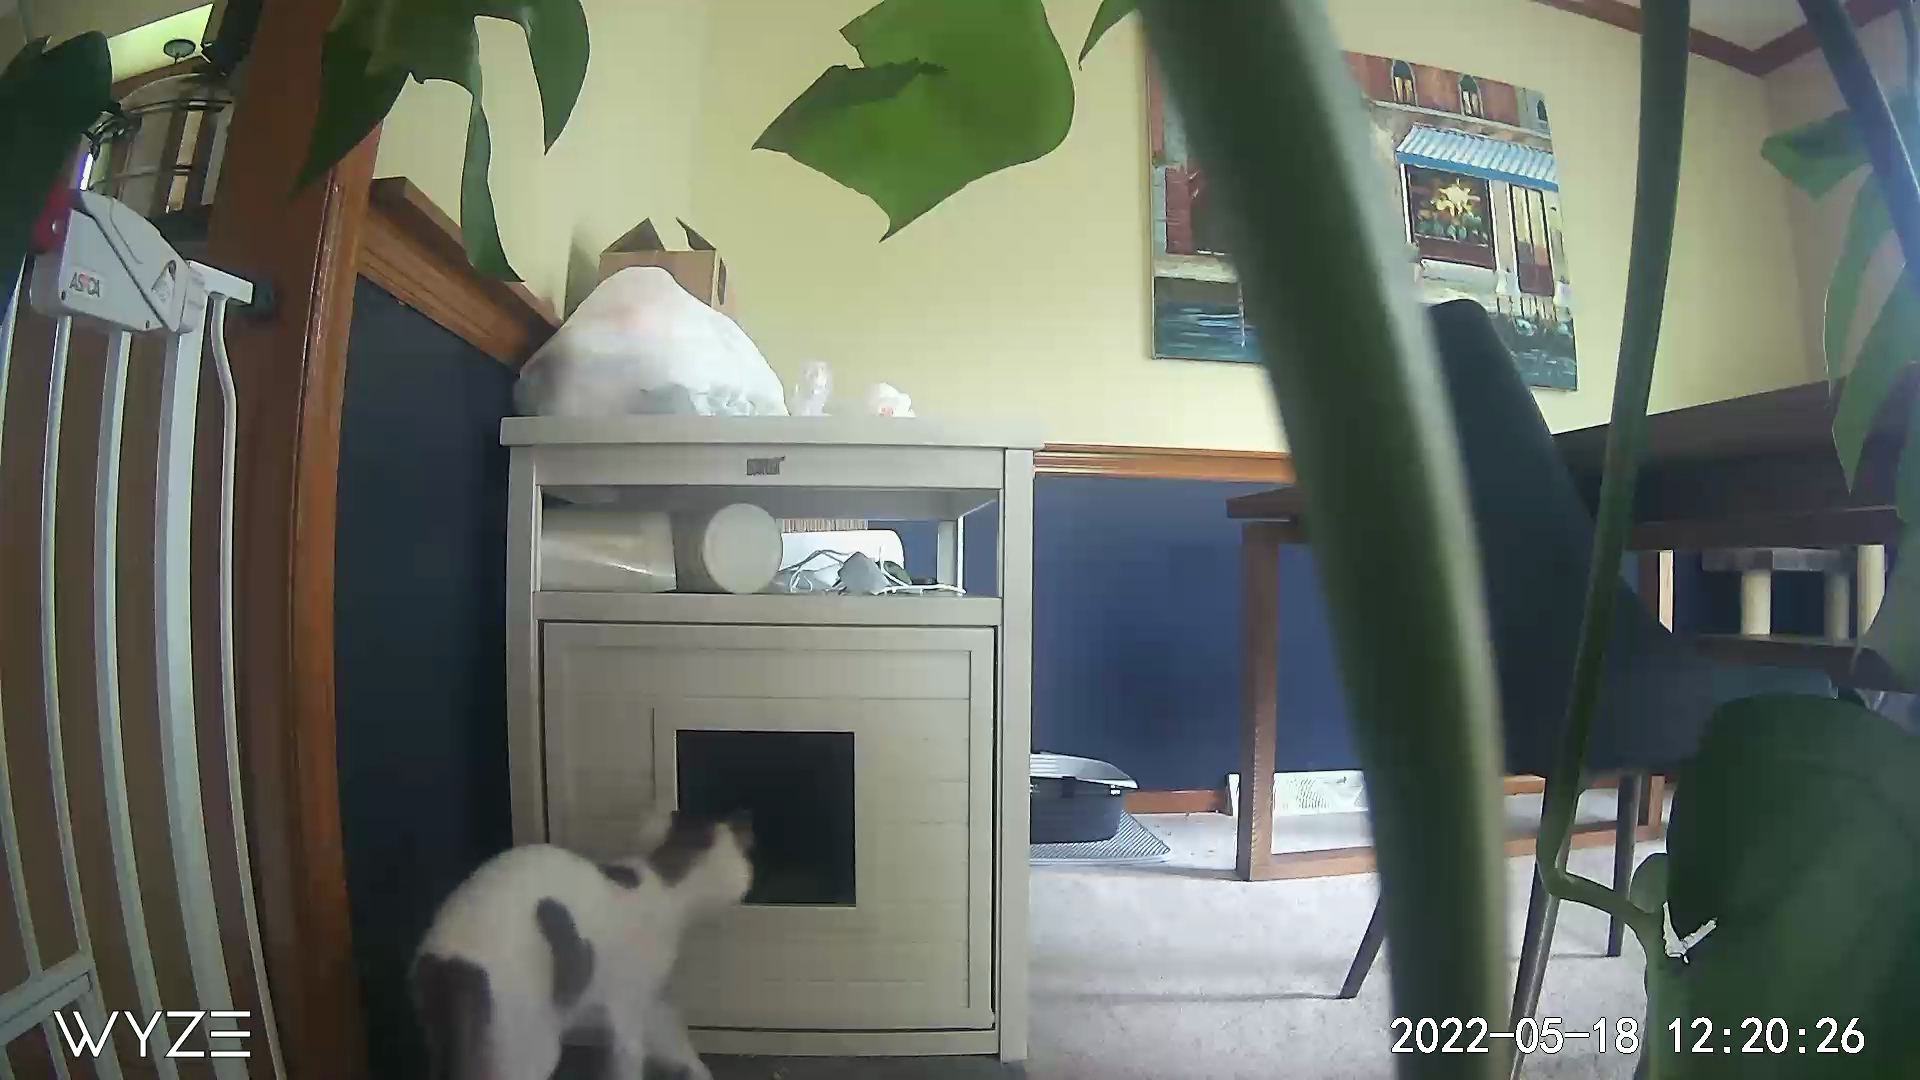maoxin: (400, 787, 764, 1072)
